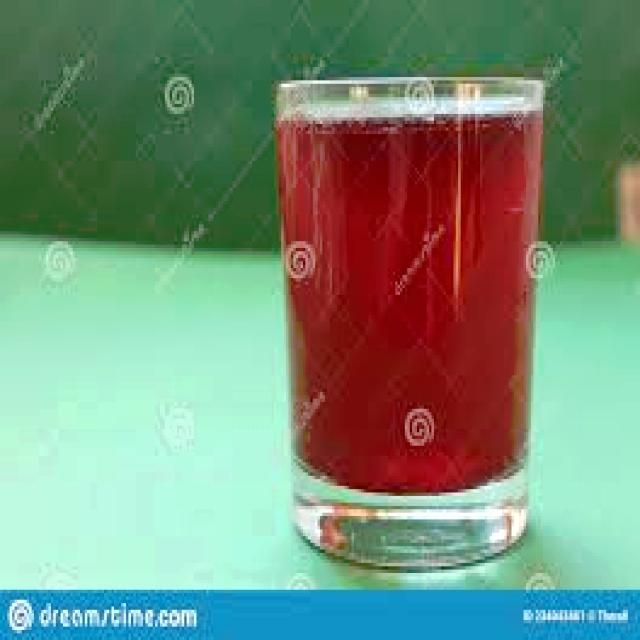drink: (269, 64, 558, 576)
